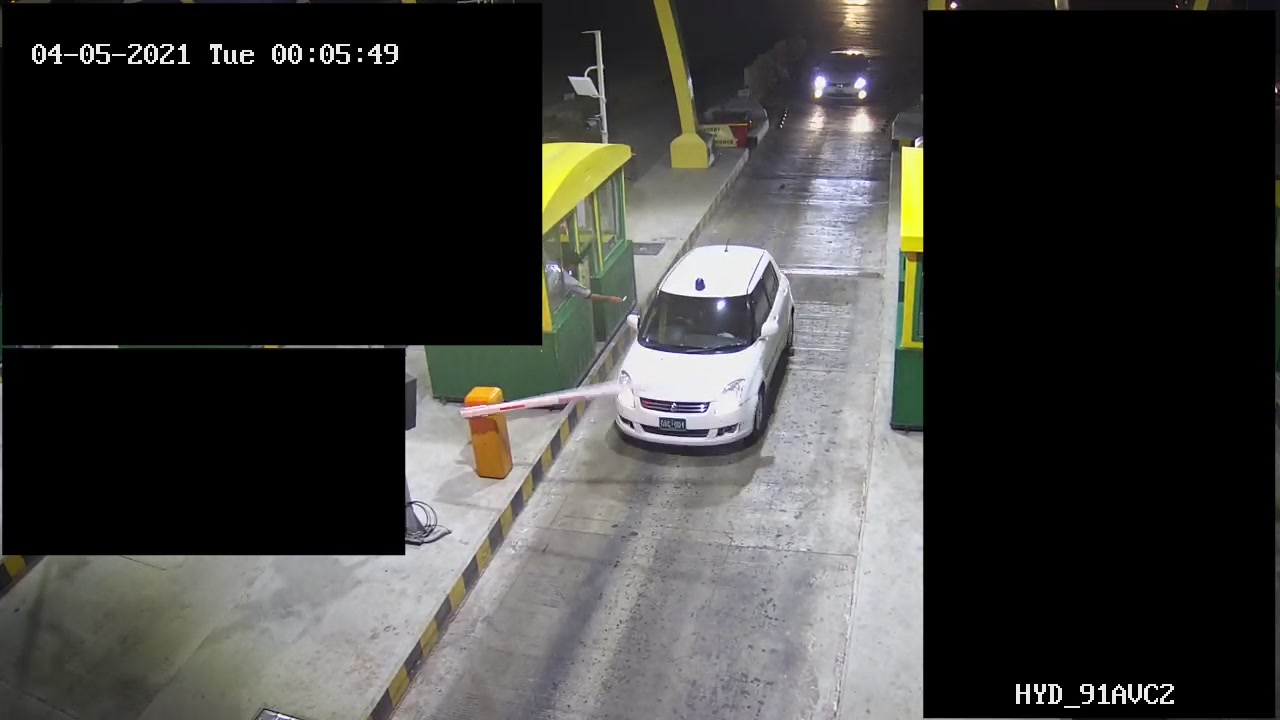F1: (600, 236, 794, 456)
